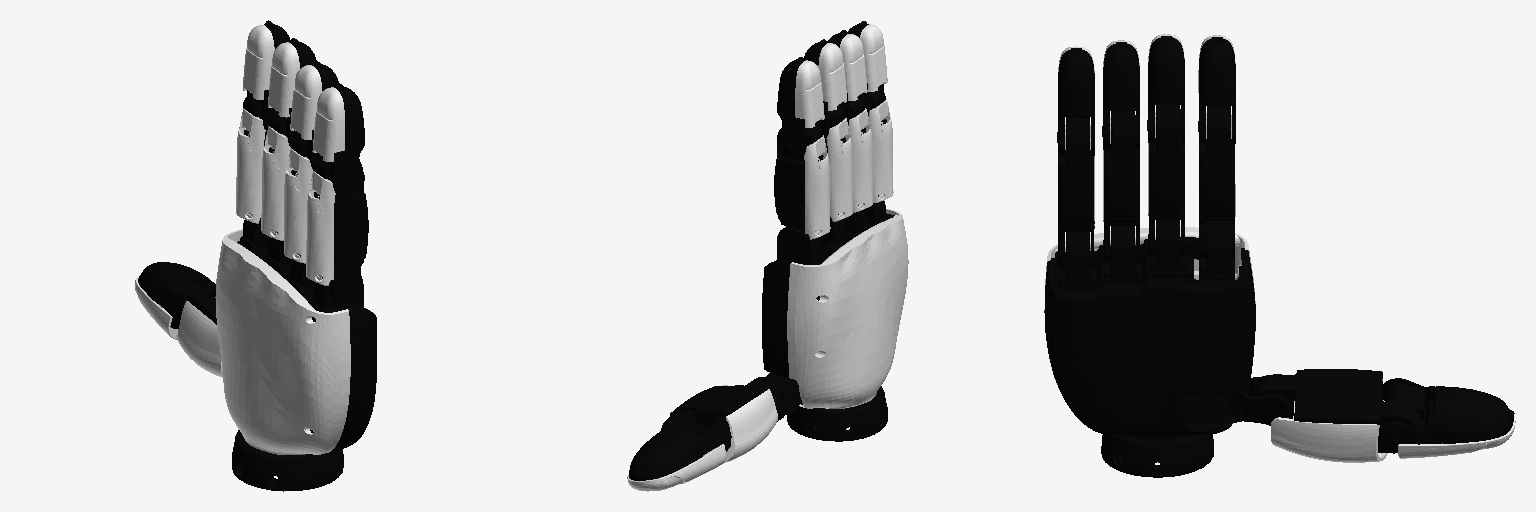
--- Facts derived from the render (not from the file) ---
The picture shows the robot from 3 angles, left to right: view 1: azimuth 30°, elevation 25°; view 2: azimuth 150°, elevation 25°; view 3: azimuth 270°, elevation 25°; orthographic projection.
Robot: xhand_right — 30 links, 29 joints (12 revolute, 17 fixed); root link right_hand_link; default pose: every joint at zero.
Links seen in each view (by area): view 1: right_hand_back_link, right_hand_link, right_hand_pinky_link1, right_hand_pinkyback_link1, right_hand_index_rotaback_link1, right_hand_thumb_rota_link2, right_hand_ringback_link1, right_hand_midback_link1, right_hand_pinky_link2, right_hand_thumb_rotaback_link1, right_hand_pinkyback_link2, right_hand_index_rotaback_link2 (+6 smaller); view 2: right_hand_back_link, right_hand_link, right_hand_thumb_rota_link2, right_hand_thumb_rota_link1, right_hand_index_rota_link1, right_hand_index_rotaback_link1, right_hand_thumb_rotaback_link1, right_hand_midback_link1, right_hand_ringback_link1, right_hand_index_rota_link2, right_hand_pinkyback_link1, right_hand_index_rotaback_link2 (+6 smaller); view 3: right_hand_link, right_hand_thumb_rota_link1, right_hand_thumb_rota_link2, right_hand_mid_link1, right_hand_ring_link1, right_hand_pinky_link1, right_hand_thumb_rotaback_link1, right_hand_index_rota_link1, right_hand_ring_link2, right_hand_pinky_link2, right_hand_mid_link2, right_hand_index_rota_link2 (+4 smaller).
Boxes of the visible links, x1,y1,x2,y2 form: right_hand_back_link: (215,229,350,454); right_hand_link: (232,237,376,491); right_hand_pinky_link1: (313,155,368,308); right_hand_pinkyback_link1: (306,171,335,285); right_hand_index_rotaback_link1: (236,108,265,223); right_hand_thumb_rota_link2: (138,262,215,328); right_hand_ringback_link1: (284,148,312,263); right_hand_midback_link1: (261,126,290,240); right_hand_pinky_link2: (317,87,364,196); right_hand_thumb_rotaback_link1: (177,301,222,377); right_hand_pinkyback_link2: (312,87,344,161); right_hand_index_rotaback_link2: (243,25,274,99); right_hand_back_link: (787,209,908,408); right_hand_link: (762,201,894,441); right_hand_thumb_rota_link2: (629,422,730,480); right_hand_thumb_rota_link1: (661,377,784,447); right_hand_index_rota_link1: (774,123,823,229); right_hand_index_rotaback_link1: (804,135,830,239); right_hand_thumb_rotaback_link1: (722,385,777,463); right_hand_midback_link1: (826,118,852,221); right_hand_ringback_link1: (848,108,872,212); right_hand_index_rota_link2: (777,60,820,158); right_hand_pinkyback_link1: (868,99,893,202); right_hand_index_rotaback_link2: (795,60,824,127); right_hand_link: (1044,220,1255,477); right_hand_thumb_rota_link1: (1251,369,1423,453); right_hand_thumb_rota_link2: (1378,378,1512,451); right_hand_mid_link1: (1148,105,1184,256); right_hand_ring_link1: (1103,111,1139,263); right_hand_pinky_link1: (1058,117,1094,269); right_hand_thumb_rotaback_link1: (1271,379,1387,462); right_hand_index_rota_link1: (1199,106,1234,224); right_hand_ring_link2: (1102,44,1139,149); right_hand_pinky_link2: (1057,50,1094,155); right_hand_mid_link2: (1147,37,1184,142); right_hand_index_rota_link2: (1198,38,1235,143).
Size in the robot's own frame: 0.0641 by 0.2091 by 0.2077 metres.
30 mesh visuals loaded from 30 distinct referenced files (30 binary STL).

The robot description file, URDF, robot "xhand_right":
<?xml version="1.0" encoding="utf-8"?>
<!-- This URDF was automatically created by SolidWorks to URDF Exporter! Originally created by Stephen Brawner ([email redacted]) 
     Commit Version: 1.6.0-4-g7f85cfe  Build Version: 1.6.7995.38578
     For more information, please see http://wiki.ros.org/sw_urdf_exporter -->
<robot
  name="xhand_right">
  <link
    name="right_hand_link">
    <inertial>
      <origin
        xyz="0.010035126340455 -0.00366835056360167 0.0582695212892126"
        rpy="0 0 0" />
      <mass
        value="0.53851506" />
      <inertia
        ixx=".00064186"
        ixy="0.00000002"
        ixz="-0.00000217"
        iyy="0.00046434"
        iyz="0.00005134"
        izz="0.00027538" />
    </inertial>
    <visual>
      <origin
        xyz="0 0 0"
        rpy="0 0 0" />
      <geometry>
        <mesh
          filename="../meshes/right_hand_link.STL" />
      </geometry>
      <material
        name="RAL_9005_Jet_Black">
        <color
          rgba="0.055 0.055 0.063 1.0" />
      </material>
    </visual>
    <collision>
      <origin
        xyz="0 0 0"
        rpy="0 0 0" />
      <geometry>
        <mesh
          filename="../meshes/right_hand_link.STL" />
      </geometry>
    </collision>
  </link>
  <link
    name="right_hand_ee_link">
    <inertial>
      <origin
        xyz="1.4529186126289E-19 -2.85196737334113E-18 0"
        rpy="0 0 0" />
      <mass
        value="0.00000565" />
      <inertia
        ixx="0.00000000001"
        ixy="0.00000000001"
        ixz="0.00000000001"
        iyy="0.00000000001"
        iyz="0.00000000001"
        izz="0.00000000001" />
    </inertial>
    <visual>
      <origin
        xyz="0 0 0"
        rpy="0 0 0" />
      <geometry>
        <mesh
          filename="../meshes/right_hand_ee_link.STL" />
      </geometry>
      <material
        name="RAL_9005_Jet_Black">
        <color
          rgba="0.055 0.055 0.063 1.0" />
      </material>
    </visual>
    <collision>
      <origin
        xyz="0 0 0"
        rpy="0 0 0" />
      <geometry>
        <mesh
          filename="../meshes/right_hand_ee_link.STL" />
      </geometry>
    </collision>
  </link>
  <joint
    name="right_hand_ee_joint"
    type="fixed">
    <origin
      xyz="0 0 0.065"
      rpy="0 0 0" />
    <parent
      link="right_hand_link" />
    <child
      link="right_hand_ee_link" />
    <axis
      xyz="0 0 0" />
    <dynamics
      damping="0"
      friction="0" />
  </joint>
  <link
    name="right_hand_back_link">
    <inertial>
      <origin
        xyz="-0.0140081519632461 -0.00149245332244742 -0.000647126026633069"
        rpy="0 0 0" />
      <mass
        value="0.00000002" />
      <inertia
        ixx="0.00000000001"
        ixy="0.00000000001"
        ixz="0.00000000001"
        iyy="0.00000000001"
        iyz="0.00000000001"
        izz="0.00000000001" />
    </inertial>
    <visual>
      <origin
        xyz="0 0 0"
        rpy="0 0 0" />
      <geometry>
        <mesh
          filename="../meshes/right_hand_back_link.STL" />
      </geometry>
      <material
        name="RAL_9003_Signal_White">
        <color
          rgba="0.941 0.941 0.941 1.0" />
      </material>
    </visual>
    <collision>
      <origin
        xyz="0 0 0"
        rpy="0 0 0" />
      <geometry>
        <mesh
          filename="../meshes/right_hand_back_link.STL" />
      </geometry>
    </collision>
  </link>
  <joint
    name="right_hand_back_joint"
    type="fixed">
    <origin
      xyz="0 0 0.065"
      rpy="0 0 0" />
    <parent
      link="right_hand_link" />
    <child
      link="right_hand_back_link" />
    <axis
      xyz="0 0 0" />
    <dynamics
      damping="0"
      friction="0" />
  </joint>
  <link
    name="right_hand_thumb_bend_link">
    <inertial>
      <origin
        xyz="-0.00116534489100702 0.0144358799903649 5.40665183232092E-05"
        rpy="0 0 0" />
      <mass
        value="0.01151453" />
      <inertia
        ixx="0.00000155"
        ixy="-0.00000003"
        ixz="0.00000000001"
        iyy="0.00000062"
        iyz="0.00000007"
        izz="0.00000157" />
    </inertial>
    <visual>
      <origin
        xyz="0 0 0"
        rpy="0 0 0" />
      <geometry>
        <mesh
          filename="../meshes/right_hand_thumb_bend_link.STL" />
      </geometry>
      <material
        name="RAL_9005_Jet_Black">
        <color
          rgba="0.055 0.055 0.063 1.0" />
      </material>
    </visual>
    <collision>
      <origin
        xyz="0 0 0"
        rpy="0 0 0" />
      <geometry>
        <mesh
          filename="../meshes/right_hand_thumb_bend_link.STL" />
      </geometry>
    </collision>
  </link>
  <joint
    name="right_hand_thumb_bend_joint"
    type="revolute">
    <origin
      xyz="0.0095 0.0228 0.0305"
      rpy="0 0 0" />
    <parent
      link="right_hand_link" />
    <child
      link="right_hand_thumb_bend_link" />
    <axis
      xyz="0 0 -1" />
    <limit
      lower="0"
      upper="1.832"
      effort="1.1"
      velocity="8.63" />
    <dynamics
      damping="0"
      friction="0" />
  </joint>
  <link
    name="right_hand_thumb_rota_link1">
    <inertial>
      <origin
        xyz="-0.00036176505273174 0.0287681485595387 0.00133929684947857"
        rpy="0 0 0" />
      <mass
        value="0.1322853" />
      <inertia
        ixx="0.00003665"
        ixy="-0.00000788"
        ixz="0.00000198"
        iyy="0.00001694"
        iyz="0.00000185"
        izz="0.00004358" />
    </inertial>
    <visual>
      <origin
        xyz="0 0 0"
        rpy="0 0 0" />
      <geometry>
        <mesh
          filename="../meshes/right_hand_thumb_rota_link1.STL" />
      </geometry>
      <material
        name="RAL_9005_Jet_Black">
        <color
          rgba="0.055 0.055 0.063 1.0" />
      </material>
    </visual>
    <collision>
      <origin
        xyz="0 0 0"
        rpy="0 0 0" />
      <geometry>
        <mesh
          filename="../meshes/right_hand_thumb_rota_link1.STL" />
      </geometry>
    </collision>
  </link>
  <joint
    name="right_hand_thumb_rota_joint1"
    type="revolute">
    <origin
      xyz="0.0083177 0.028599 -0.00178"
      rpy="0 0.2618 -0.0407" />
    <parent
      link="right_hand_thumb_bend_link" />
    <child
      link="right_hand_thumb_rota_link1" />
    <axis
      xyz="1 0 0" />
    <limit
      lower="-0.698"
      upper="1.57"
      effort="1.1"
      velocity="8.63" />
    <dynamics
      damping="0"
      friction="0" />
  </joint>
  <link
    name="right_hand_thumb_rotaback_link1">
    <inertial>
      <origin
        xyz="0.00143342397772657 -0.0296289408961753 -0.00759117851370326"
        rpy="0 0 0" />
      <mass
        value="0.00000006" />
      <inertia
        ixx="0.00000000001"
        ixy="0.00000000001"
        ixz="0.00000000001"
        iyy="0.00000000001"
        iyz="0.00000000001"
        izz="0.00000000001" />
    </inertial>
    <visual>
      <origin
        xyz="0 0 0"
        rpy="0 0 0" />
      <geometry>
        <mesh
          filename="../meshes/right_hand_thumb_rotaback_link1.STL" />
      </geometry>
      <material
        name="RAL_9003_Signal_White">
        <color
          rgba="0.941 0.941 0.941 1.0" />
      </material>
    </visual>
    <collision>
      <origin
        xyz="0 0 0"
        rpy="0 0 0" />
      <geometry>
        <mesh
          filename="../meshes/right_hand_thumb_rotaback_link1.STL" />
      </geometry>
    </collision>
  </link>
  <joint
    name="right_hand_thumb_rotaback_joint1"
    type="fixed">
    <origin
      xyz="0 0.0553000000000007 0"
      rpy="0 0 0" />
    <parent
      link="right_hand_thumb_rota_link1" />
    <child
      link="right_hand_thumb_rotaback_link1" />
    <axis
      xyz="0 0 0" />
    <dynamics
      damping="0"
      friction="0" />
  </joint>
  <link
    name="right_hand_thumb_rota_link2">
    <inertial>
      <origin
        xyz="-0.000881604281134662 0.0225339954987271 0.000614550644508979"
        rpy="0 0 0" />
      <mass
        value="0.03516871" />
      <inertia
        ixx="0.00000779"
        ixy="-0.00000002"
        ixz="0.00000034"
        iyy="0.0000035"
        iyz="-0.00000018"
        izz="0.00000896" />
    </inertial>
    <visual>
      <origin
        xyz="0 0 0"
        rpy="0 0 0" />
      <geometry>
        <mesh
          filename="../meshes/right_hand_thumb_rota_link2.STL" />
      </geometry>
      <material
        name="RAL_9005_Jet_Black">
        <color
          rgba="0.055 0.055 0.063 1.0" />
      </material>
    </visual>
    <collision>
      <origin
        xyz="0 0 0"
        rpy="0 0 0" />
      <geometry>
        <mesh
          filename="../meshes/right_hand_thumb_rota_link2.STL" />
      </geometry>
    </collision>
  </link>
  <joint
    name="right_hand_thumb_rota_joint2"
    type="revolute">
    <origin
      xyz="0 0.0553 0"
      rpy="0 0 0" />
    <parent
      link="right_hand_thumb_rota_link1" />
    <child
      link="right_hand_thumb_rota_link2" />
    <axis
      xyz="1 0 0" />
    <limit
      lower="0"
      upper="1.57"
      effort="0.4"
      velocity="14.38" />
    <dynamics
      damping="0"
      friction="0" />
  </joint>
  <link
    name="right_hand_thumb_rotaback_link2">
    <inertial>
      <origin
        xyz="-0.000532663554883375 -0.0258393181739458 -0.00924631111128287"
        rpy="0 0 0" />
      <mass
        value="0.00000004" />
      <inertia
        ixx="0.00000000001"
        ixy="0.00000000001"
        ixz="0.00000000001"
        iyy="0.00000000001"
        iyz="0.00000000001"
        izz="0.00000000001" />
    </inertial>
    <visual>
      <origin
        xyz="0 0 0"
        rpy="0 0 0" />
      <geometry>
        <mesh
          filename="../meshes/right_hand_thumb_rotaback_link2.STL" />
      </geometry>
      <material
        name="RAL_9003_Signal_White">
        <color
          rgba="0.941 0.941 0.941 1.0" />
      </material>
    </visual>
    <collision>
      <origin
        xyz="0 0 0"
        rpy="0 0 0" />
      <geometry>
        <mesh
          filename="../meshes/right_hand_thumb_rotaback_link2.STL" />
      </geometry>
    </collision>
  </link>
  <joint
    name="right_hand_thumb_rotaback_joint2"
    type="fixed">
    <origin
      xyz="0 0.0502276499414863 0"
      rpy="0 0 0" />
    <parent
      link="right_hand_thumb_rota_link2" />
    <child
      link="right_hand_thumb_rotaback_link2" />
    <axis
      xyz="0 0 0" />
    <dynamics
      damping="0"
      friction="0" />
  </joint>
  <link
    name="right_hand_thumb_rota_tip">
    <inertial>
      <origin
        xyz="1.82145964977565E-17 -2.77555756156289E-17 1.31838984174237E-16"
        rpy="0 0 0" />
      <mass
        value="0.00000565" />
      <inertia
        ixx="0.00000000001"
        ixy="0.00000000001"
        ixz="0.00000000001"
        iyy="0.00000000001"
        iyz="0.00000000001"
        izz="0.00000000001" />
    </inertial>
    <visual>
      <origin
        xyz="0 0 0"
        rpy="0 0 0" />
      <geometry>
        <mesh
          filename="../meshes/right_hand_thumb_rota_tip.STL" />
      </geometry>
      <material
        name="RAL_9005_Jet_Black">
        <color
          rgba="0.055 0.055 0.063 1.0" />
      </material>
    </visual>
    <collision>
      <origin
        xyz="0 0 0"
        rpy="0 0 0" />
      <geometry>
        <mesh
          filename="../meshes/right_hand_thumb_rota_tip.STL" />
      </geometry>
    </collision>
  </link>
  <joint
    name="right_hand_thumb_rota_joint3"
    type="fixed">
    <origin
      xyz="0 0.0502276499414863 0"
      rpy="0 0 0" />
    <parent
      link="right_hand_thumb_rota_link2" />
    <child
      link="right_hand_thumb_rota_tip" />
    <axis
      xyz="0 0 0" />
    <dynamics
      damping="0"
      friction="0" />
  </joint>
  <link
    name="right_hand_index_bend_link">
    <inertial>
      <origin
        xyz="-0.000715851164577249 0.000118997558760756 0.0111903014853532"
        rpy="0 0 0" />
      <mass
        value="0.068721" />
      <inertia
        ixx="0.00001643"
        ixy="0.00000000001"
        ixz="0.00000013"
        iyy="0.00001707"
        iyz="-0.00000011"
        izz="0.00000343" />
    </inertial>
    <visual>
      <origin
        xyz="0 0 0"
        rpy="0 0 0" />
      <geometry>
        <mesh
          filename="../meshes/right_hand_index_bend_link.STL" />
      </geometry>
      <material
        name="RAL_9005_Jet_Black">
        <color
          rgba="0.055 0.055 0.063 1.0" />
      </material>
    </visual>
    <collision>
      <origin
        xyz="0 0 0"
        rpy="0 0 0" />
      <geometry>
        <mesh
          filename="../meshes/right_hand_index_bend_link.STL" />
      </geometry>
    </collision>
  </link>
  <joint
    name="right_hand_index_bend_joint"
    type="revolute">
    <origin
      xyz="0.0065 0.0265 0.0899"
      rpy="0 0 0" />
    <parent
      link="right_hand_link" />
    <child
      link="right_hand_index_bend_link" />
    <axis
      xyz="-1 0 0" />
    <limit
      lower="-0.174"
      upper="0.174"
      effort="0.4"
      velocity="14.38" />
    <dynamics
      damping="0"
      friction="0" />
  </joint>
  <link
    name="right_hand_index_rota_link1">
    <inertial>
      <origin
        xyz="0.00063293051295399 0.00013300810657332 0.0355868719939061"
        rpy="0 0 0" />
      <mass
        value="0.06298297" />
      <inertia
        ixx="0.00001686"
        ixy="0.00000000001"
        ixz="-0.00000019"
        iyy="0.00001738"
        iyz="-0.00000028"
        izz="0.0000032" />
    </inertial>
    <visual>
      <origin
        xyz="0 0 0"
        rpy="0 0 0" />
      <geometry>
        <mesh
          filename="../meshes/right_hand_index_rota_link1.STL" />
      </geometry>
      <material
        name="RAL_9005_Jet_Black">
        <color
          rgba="0.055 0.055 0.063 1" />
      </material>
    </visual>
    <collision>
      <origin
        xyz="0 0 0"
        rpy="0 0 0" />
      <geometry>
        <mesh
          filename="../meshes/right_hand_index_rota_link1.STL" />
      </geometry>
    </collision>
  </link>
  <joint
    name="right_hand_index_joint1"
    type="revolute">
    <origin
      xyz="0 0 0.0178"
      rpy="0 0 0" />
    <parent
      link="right_hand_index_bend_link" />
    <child
      link="right_hand_index_rota_link1" />
    <axis
      xyz="0 1 0" />
    <limit
      lower="0"
      upper="1.919"
      effort="1.1"
      velocity="8.63" />
    <dynamics
      damping="0"
      friction="0" />
  </joint>
  <link
    name="right_hand_index_rotaback_link1">
    <inertial>
      <origin
        xyz="-0.0115948039989203 -0.000148034626475925 -0.0241234086564007"
        rpy="0 0 0" />
      <mass
        value="0.00000002" />
      <inertia
        ixx="0.00000000001"
        ixy="0.00000000001"
        ixz="0.00000000001"
        iyy="0.00000000001"
        iyz="0.00000000001"
        izz="0.00000000001" />
    </inertial>
    <visual>
      <origin
        xyz="0 0 0"
        rpy="0 0 0" />
      <geometry>
        <mesh
          filename="../meshes/right_hand_index_rotaback_link1.STL" />
      </geometry>
      <material
        name="RAL_9003_Signal_White">
        <color
          rgba="0.941 0.941 0.941 1" />
      </material>
    </visual>
    <collision>
      <origin
        xyz="0 0 0"
        rpy="0 0 0" />
      <geometry>
        <mesh
          filename="../meshes/right_hand_index_rotaback_link1.STL" />
      </geometry>
    </collision>
  </link>
  <joint
    name="right_hand_index_rotaback_joint1"
    type="fixed">
    <origin
      xyz="0 0 0.0557999999999955"
      rpy="0 0 0" />
    <parent
      link="right_hand_index_rota_link1" />
    <child
      link="right_hand_index_rotaback_link1" />
    <axis
      xyz="0 0 0" />
    <dynamics
      damping="0"
      friction="0" />
  </joint>
  <link
    name="right_hand_index_rota_link2">
    <inertial>
      <origin
        xyz="0.00119905190206782 -0.000248361661986104 0.0213789854478679"
        rpy="0 0 0" />
      <mass
        value="0.01582395" />
      <inertia
        ixx="0.00000283"
        ixy="0.00000000001"
        ixz="-0.00000007"
        iyy="0.00000277"
        iyz="-0.00000012"
        izz="0.00000085" />
    </inertial>
    <visual>
      <origin
        xyz="0 0 0"
        rpy="0 0 0" />
      <geometry>
        <mesh
          filename="../meshes/right_hand_index_rota_link2.STL" />
      </geometry>
      <material
        name="RAL_9005_Jet_Black">
        <color
          rgba="0.055 0.055 0.063 1" />
      </material>
    </visual>
    <collision>
      <origin
        xyz="0 0 0"
        rpy="0 0 0" />
      <geometry>
        <mesh
          filename="../meshes/right_hand_index_rota_link2.STL" />
      </geometry>
    </collision>
  </link>
  <joint
    name="right_hand_index_joint2"
    type="revolute">
    <origin
      xyz="0 0 0.0558"
      rpy="0 0 0" />
    <parent
      link="right_hand_index_rota_link1" />
    <child
      link="right_hand_index_rota_link2" />
    <axis
      xyz="0 1 0" />
    <limit
      lower="0"
      upper="1.919"
      effort="0.4"
      velocity="14.38" />
    <dynamics
      damping="0"
      friction="0" />
  </joint>
  <link
    name="right_hand_index_rotaback_link2">
    <inertial>
      <origin
        xyz="-0.00758843721876551 0.00015795043857645 -0.0176655210856158"
        rpy="0 0 0" />
      <mass
        value="0.00000001" />
      <inertia
        ixx="0.00000000001"
        ixy="0.00000000001"
        ixz="0.00000000001"
        iyy="0.00000000001"
        iyz="0.00000000001"
        izz="0.00000000001" />
    </inertial>
    <visual>
      <origin
        xyz="0 0 0"
        rpy="0 0 0" />
      <geometry>
        <mesh
          filename="../meshes/right_hand_index_rotaback_link2.STL" />
      </geometry>
      <material
        name="RAL_9003_Signal_White">
        <color
          rgba="0.941 0.941 0.941 1" />
      </material>
    </visual>
    <collision>
      <origin
        xyz="0 0 0"
        rpy="0 0 0" />
      <geometry>
        <mesh
          filename="../meshes/right_hand_index_rotaback_link2.STL" />
      </geometry>
    </collision>
  </link>
  <joint
    name="right_hand_index_rotaback_joint2"
    type="fixed">
    <origin
      xyz="0 0 0.0422482924089424"
      rpy="0 0 0" />
    <parent
      link="right_hand_index_rota_link2" />
    <child
      link="right_hand_index_rotaback_link2" />
    <axis
      xyz="0 0 0" />
    <dynamics
      damping="0"
      friction="0" />
  </joint>
  <link
    name="right_hand_index_rota_tip">
    <inertial>
      <origin
        xyz="7.13838710364456E-16 -3.46944695195361E-18 2.77555756156289E-17"
        rpy="0 0 0" />
      <mass
        value="0.00000565" />
      <inertia
        ixx="0.00000000001"
        ixy="0.00000000001"
        ixz="0.00000000001"
        iyy="0.00000000001"
        iyz="0.00000000001"
        izz="0.00000000001" />
    </inertial>
    <visual>
      <origin
        xyz="0 0 0"
        rpy="0 0 0" />
      <geometry>
        <mesh
          filename="../meshes/right_hand_index_rota_tip.STL" />
      </geometry>
      <material
        name="RAL_9005_Jet_Black">
        <color
          rgba="0.055 0.055 0.063 1" />
      </material>
    </visual>
    <collision>
      <origin
        xyz="0 0 0"
        rpy="0 0 0" />
      <geometry>
        <mesh
          filename="../meshes/right_hand_index_rota_tip.STL" />
      </geometry>
    </collision>
  </link>
  <joint
    name="right_hand_index_rota_joint3"
    type="fixed">
    <origin
      xyz="0 0 0.0422482924089424"
      rpy="0 0 0" />
    <parent
      link="right_hand_index_rota_link2" />
    <child
      link="right_hand_index_rota_tip" />
    <axis
      xyz="0 0 0" />
    <dynamics
      damping="0"
      friction="0" />
  </joint>
  <link
    name="right_hand_mid_link1">
    <inertial>
      <origin
        xyz="0.000530417592106097 3.58049083658378E-05 0.033278467115721"
        rpy="0 0 0" />
      <mass
        value="0.06298297" />
      <inertia
        ixx="0.00001681"
        ixy="0.00000000001"
        ixz="-0.00000087"
        iyy="0.00001738"
        iyz="-0.00000028"
        izz="0.00000325" />
    </inertial>
    <visual>
      <origin
        xyz="0 0 0"
        rpy="0 0 0" />
      <geometry>
        <mesh
          filename="../meshes/right_hand_mid_link1.STL" />
      </geometry>
      <material
        name="RAL_9005_Jet_Black">
        <color
          rgba="0.055 0.055 0.063 1" />
      </material>
    </visual>
    <collision>
      <origin
        xyz="0 0 0"
        rpy="0 0 0" />
      <geometry>
        <mesh
          filename="../meshes/right_hand_mid_link1.STL" />
      </geometry>
    </collision>
  </link>
  <joint
    name="right_hand_mid_joint1"
    type="revolute">
    <origin
      xyz="0.0065 0.004 0.1082"
      rpy="0 0 0" />
    <parent
      link="right_hand_link" />
    <child
      link="right_hand_mid_link1" />
    <axis
      xyz="0 1 0" />
    <limit
      lower="0"
      upper="1.919"
      effort="1.1"
      velocity="8.63" />
    <dynamics
      damping="0"
      friction="0" />
  </joint>
  <link
    name="right_hand_midback_link1">
    <inertial>
      <origin
        xyz="-0.0115948039977618 -0.000148034759331951 -0.0241234077138271"
        rpy="0 0 0" />
      <mass
        value="0.00000002" />
      <inertia
        ixx="0.00000000001"
        ixy="0.00000000001"
        ixz="0.00000000001"
        iyy="0.00000000001"
        iyz="0.00000000001"
        izz="0.00000000001" />
    </inertial>
    <visual>
      <origin
        xyz="0 0 0"
        rpy="0 0 0" />
      <geometry>
        <mesh
          filename="../meshes/right_hand_midback_link1.STL" />
      </geometry>
      <material
        name="RAL_9003_Signal_White">
        <color
          rgba="0.941 0.941 0.941 1" />
      </material>
    </visual>
    <collision>
      <origin
        xyz="0 0 0"
        rpy="0 0 0" />
      <geometry>
        <mesh
          filename="../meshes/right_hand_midback_link1.STL" />
      </geometry>
    </collision>
  </link>
  <joint
    name="right_hand_midback_joint1"
    type="fixed">
    <origin
      xyz="0 0 0.0558"
      rpy="0 0 0" />
    <parent
      link="right_hand_mid_link1" />
    <child
      link="right_hand_midback_link1" />
    <axis
      xyz="0 0 0" />
    <dynamics
      damping="0"
      friction="0" />
  </joint>
  <link
    name="right_hand_mid_link2">
    <inertial>
      <origin
        xyz="0.00119905190206755 -0.000248361661996566 0.0213789854478682"
        rpy="0 0 0" />
      <mass
        value="0.01582395" />
      <inertia
        ixx="0.00000287"
        ixy="-0.00000001"
        ixz="-0.00000019"
        iyy="0.00000283"
        iyz="-0.00000012"
        izz="0.00000087" />
    </inertial>
    <visual>
      <origin
        xyz="0 0 0"
        rpy="0 0 0" />
      <geometry>
        <mesh
          filename="../meshes/right_hand_mid_link2.STL" />
      </geometry>
      <material
        name="RAL_9005_Jet_Black">
        <color
          rgba="0.055 0.055 0.063 1" />
      </material>
    </visual>
    <collision>
      <origin
        xyz="0 0 0"
        rpy="0 0 0" />
      <geometry>
        <mesh
          filename="../meshes/right_hand_mid_link2.STL" />
      </geometry>
    </collision>
  </link>
  <joint
    name="right_hand_mid_joint2"
    type="revolute">
    <origin
      xyz="0 0 0.0558"
      rpy="0 0 0" />
    <parent
      link="right_hand_mid_link1" />
    <child
      link="right_hand_mid_link2" />
    <axis
      xyz="0 1 0" />
    <limit
      lower="0"
      upper="1.919"
      effort="0.4"
      velocity="14.38" />
    <dynamics
      damping="0"
      friction="0" />
  </joint>
  <link
    name="right_hand_midback_link2">
    <inertial>
      <origin
        xyz="-0.00758843721876527 0.000157950438608734 -0.0176655210856121"
        rpy="0 0 0" />
      <mass
        value="0.00000001" />
      <inertia
        ixx="0.00000000001"
        ixy="0.00000000001"
        ixz="0.00000000001"
        iyy="0.00000000001"
        iyz="0.00000000001"
        izz="0.00000000001" />
    </inertial>
    <visual>
      <origin
        xyz="0 0 0"
        rpy="0 0 0" />
      <geometry>
        <mesh
          filename="../meshes/right_hand_midback_link2.STL" />
      </geometry>
      <material
        name="RAL_9003_Signal_White">
        <color
          rgba="0.941 0.941 0.941 1" />
      </material>
    </visual>
    <collision>
      <origin
        xyz="0 0 0"
        rpy="0 0 0" />
      <geometry>
        <mesh
          filename="../meshes/right_hand_midback_link2.STL" />
      </geometry>
    </collision>
  </link>
  <joint
    name="right_hand_midback_joint2"
    type="fixed">
    <origin
      xyz="0 0 0.0422482924089416"
      rpy="0 0 0" />
    <parent
      link="right_hand_mid_link2" />
    <child
      link="right_hand_midback_link2" />
    <axis
      xyz="0 0 0" />
    <dynamics
      damping="0"
      friction="0" />
  </joint>
  <link
    name="right_hand_mid_tip">
    <inertial>
      <origin
        xyz="6.99093560818653E-16 2.6104986228237E-14 8.32667268468867E-16"
        rpy="0 0 0" />
      <mass
        value="0.00000565" />
      <inertia
        ixx="0.00000000001"
        ixy="0.00000000001"
        ixz="0.00000000001"
        iyy="0.00000000001"
        iyz="0.00000000001"
        izz="0.00000000001" />
    </inertial>
    <visual>
      <origin
        xyz="0 0 0"
        rpy="0 0 0" />
      <geometry>
        <mesh
          filename="../meshes/right_hand_mid_tip.STL" />
      </geometry>
      <material
        name="RAL_9005_Jet_Black">
        <color
          rgba="0.055 0.055 0.063 1" />
      </material>
    </visual>
    <collision>
      <origin
        xyz="0 0 0"
        rpy="0 0 0" />
      <geometry>
        <mesh
          filename="../meshes/right_hand_mid_tip.STL" />
      </geometry>
    </collision>
  </link>
  <joint
    name="right_hand_mid_joint3"
    type="fixed">
    <origin
      xyz="0 0 0.042248"
      rpy="0 0 0" />
    <parent
      link="right_hand_mid_link2" />
    <child
      link="right_hand_mid_tip" />
    <axis
      xyz="0 0 0" />
    <dynamics
      damping="0"
      friction="0" />
  </joint>
  <link
    name="right_hand_ring_link1">
    <inertial>
      <origin
        xyz="0.000530417592105675 3.58049083603318E-05 0.0332784671157224"
        rpy="0 0 0" />
      <mass
        value="0.06298297" />
      <inertia
        ixx="0.00001681"
        ixy="0.00000000001"
        ixz="-0.00000087"
        iyy="0.00001738"
        iyz="-0.00000028"
        izz="0.00000325" />
    </inertial>
    <visual>
      <origin
        xyz="0 0 0"
        rpy="0 0 0" />
      <geometry>
        <mesh
          filename="../meshes/right_hand_ring_link1.STL" />
      </geometry>
      <material
        name="RAL_9005_Jet_Black">
        <color
          rgba="0.055 0.055 0.063 1" />
      </material>
    </visual>
    <collision>
      <origin
        xyz="0 0 0"
        rpy="0 0 0" />
      <geometry>
        <mesh
          filename="../meshes/right_hand_ring_link1.STL" />
      </geometry>
    </collision>
  </link>
  <joint
    name="right_hand_ring_joint1"
    type="revolute">
    <origin
      xyz="0.0065 -0.016 0.1052"
      rpy="0 0 0" />
    <parent
      link="right_hand_link" />
    <child
      link="right_hand_ring_link1" />
    <axis
      xyz="0 1 0" />
    <limit
      lower="0"
      upper="1.919"
      effort="1.1"
      velocity="8.63" />
    <dynamics
      damping="0"
      friction="0" />
  </joint>
  <link
    name="right_hand_ringback_link1">
    <inertial>
      <origin
        xyz="-0.0115948040042931 -0.000148034878525431 -0.0241234080984737"
        rpy="0 0 0" />
      <mass
        value="0.00000002" />
      <inertia
        ixx="0.00000000001"
        ixy="0.00000000001"
        ixz="0.00000000001"
        iyy="0.00000000001"
        iyz="0.00000000001"
        izz="0.00000000001" />
    </inertial>
    <visual>
      <origin
        xyz="0 0 0"
        rpy="0 0 0" />
      <geometry>
        <mesh
          filename="../meshes/right_hand_ringback_link1.STL" />
      </geometry>
      <material
        name="RAL_9003_Signal_White">
        <color
          rgba="0.941 0.941 0.941 1" />
      </material>
    </visual>
    <collision>
      <origin
        xyz="0 0 0"
        rpy="0 0 0" />
      <geometry>
        <mesh
          filename="../meshes/right_hand_ringback_link1.STL" />
      </geometry>
    </collision>
  </link>
  <joint
    name="right_hand_ringback_joint1"
    type="fixed">
    <origin
      xyz="0 0 0.0558"
      rpy="0 0 0" />
    <parent
      link="right_hand_ring_link1" />
    <child
      link="right_hand_ringback_link1" />
    <axis
      xyz="0 0 0" />
    <dynamics
      damping="0"
      friction="0" />
  </joint>
  <link
    name="right_hand_ring_link2">
    <inertial>
      <origin
        xyz="0.00119905192644367 -0.000248361559624762 0.0213789854805378"
        rpy="0 0 0" />
      <mass
        value="0.01582395" />
      <inertia
        ixx="0.00000287"
        ixy="-0.00000001"
        ixz="-0.00000019"
        iyy="0.00000283"
        iyz="-0.00000012"
        izz="0.00000087" />
    </inertial>
    <visual>
      <origin
        xyz="0 0 0"
        rpy="0 0 0" />
      <geometry>
        <mesh
          filename="../meshes/right_hand_ring_link2.STL" />
      </geometry>
      <material
        name="RAL_9005_Jet_Black">
        <color
          rgba="0.055 0.055 0.063 1" />
      </material>
    </visual>
    <collision>
      <origin
        xyz="0 0 0"
        rpy="0 0 0" />
      <geometry>
        <mesh
          filename="../meshes/right_hand_ring_link2.STL" />
      </geometry>
    </collision>
  </link>
  <joint
    name="right_hand_ring_joint2"
    type="revolute">
    <origin
      xyz="0 0 0.0558"
      rpy="0 0 0" />
    <parent
      link="right_hand_ring_link1" />
    <child
      link="right_hand_ring_link2" />
    <axis
      xyz="0 1 0" />
    <limit
      lower="0"
      upper="1.919"
      effort="0.4"
      velocity="14.38" />
    <dynamics
      damping="0"
      friction="0" />
  </joint>
  <link
    name="right_hand_ringback_link2">
    <inertial>
      <origin
        xyz="-0.00758843721876704 0.000157950438643945 -0.0176655210856309"
        rpy="0 0 0" />
      <mass
        value="0.00000001" />
      <inertia
        ixx="0.00000000001"
        ixy="0.00000000001"
        ixz="0.00000000001"
        iyy="0.00000000001"
        iyz="0.00000000001"
        izz="0.00000000001" />
    </inertial>
    <visual>
      <origin
        xyz="0 0 0"
        rpy="0 0 0" />
      <geometry>
        <mesh
          filename="../meshes/right_hand_ringback_link2.STL" />
      </geometry>
      <material
        name="RAL_9003_Signal_White">
        <color
          rgba="0.941 0.941 0.941 1" />
      </material>
    </visual>
    <collision>
      <origin
        xyz="0 0 0"
        rpy="0 0 0" />
      <geometry>
        <mesh
          filename="../meshes/right_hand_ringback_link2.STL" />
      </geometry>
    </collision>
  </link>
  <joint
    name="right_hand_ringback_joint2"
    type="fixed">
    <origin
      xyz="0 0 0.0422482924089404"
      rpy="0 0 0" />
    <parent
      link="right_hand_ring_link2" />
    <child
      link="right_hand_ringback_link2" />
    <axis
      xyz="0 0 0" />
    <dynamics
      damping="0"
      friction="0" />
  </joint>
  <link
    name="right_hand_ring_tip">
    <inertial>
      <origin
        xyz="3.0444397003393E-16 -9.71445146547012E-17 0"
        rpy="0 0 0" />
      <mass
        value="0.00000565" />
      <inertia
        ixx="0.00000000001"
        ixy="0.00000000001"
        ixz="0.00000000001"
        iyy="0.00000000001"
        iyz="0.00000000001"
        izz="0.00000000001" />
    </inertial>
    <visual>
      <origin
        xyz="0 0 0"
        rpy="0 0 0" />
      <geometry>
        <mesh
          filename="../meshes/right_hand_ring_tip.STL" />
      </geometry>
      <material
        name="RAL_9005_Jet_Black">
        <color
          rgba="0.055 0.055 0.063 1" />
      </material>
    </visual>
    <collision>
      <origin
        xyz="0 0 0"
        rpy="0 0 0" />
      <geometry>
        <mesh
          filename="../meshes/right_hand_ring_tip.STL" />
      </geometry>
    </collision>
  </link>
  <joint
    name="right_hand_ring_joint3"
    type="fixed">
    <origin
      xyz="0 0 0.0422482924089404"
      rpy="0 0 0" />
    <parent
      link="right_hand_ring_link2" />
    <child
      link="right_hand_ring_tip" />
    <axis
      xyz="0 0 0" />
    <dynamics
      damping="0"
      friction="0" />
  </joint>
  <link
    name="right_hand_pinky_link1">
    <inertial>
      <origin
        xyz="0.00053041759210553 3.58049083602902E-05 0.0332784671157224"
        rpy="0 0 0" />
      <mass
        value="0.06298297" />
      <inertia
        ixx="0.00001681"
        ixy="0.00000000001"
        ixz="-0.00000087"
        iyy="0.00001738"
        iyz="-0.00000028"
        izz="0.00000325" />
    </inertial>
    <visual>
      <origin
        xyz="0 0 0"
        rpy="0 0 0" />
      <geometry>
        <mesh
          filename="../meshes/right_hand_pinky_link1.STL" />
      </geometry>
      <material
        name="RAL_9005_Jet_Black">
        <color
          rgba="0.055 0.055 0.063 1" />
      </material>
    </visual>
    <collision>
      <origin
        xyz="0 0 0"
        rpy="0 0 0" />
      <geometry>
        <mesh
          filename="../meshes/right_hand_pinky_link1.STL" />
      </geometry>
    </collision>
  </link>
  <joint
    name="right_hand_pinky_joint1"
    type="revolute">
    <origin
      xyz="0.0065 -0.036 0.1022"
      rpy="0 0 0" />
    <parent
      link="right_hand_link" />
    <child
      link="right_hand_pinky_link1" />
    <axis
      xyz="0 1 0" />
    <limit
      lower="0"
      upper="1.919"
      effort="1.1"
      velocity="8.63" />
    <dynamics
      damping="0"
      friction="0" />
  </joint>
  <link
    name="right_hand_pinkyback_link1">
    <inertial>
      <origin
        xyz="-0.0115948039527258 -0.000148033943928788 -0.0241234090857975"
        rpy="0 0 0" />
      <mass
        value="0.00000002" />
      <inertia
        ixx="0.00000000001"
        ixy="0.00000000001"
        ixz="0.00000000001"
        iyy="0.00000000001"
        iyz="0.00000000001"
        izz="0.00000000001" />
    </inertial>
    <visual>
      <origin
        xyz="0 0 0"
        rpy="0 0 0" />
      <geometry>
        <mesh
          filename="../meshes/right_hand_pinkyback_link1.STL" />
      </geometry>
      <material
        name="RAL_9003_Signal_White">
        <color
          rgba="0.941 0.941 0.941 1" />
      </material>
    </visual>
    <collision>
      <origin
        xyz="0 0 0"
        rpy="0 0 0" />
      <geometry>
        <mesh
          filename="../meshes/right_hand_pinkyback_link1.STL" />
      </geometry>
    </collision>
  </link>
  <joint
    name="right_hand_pinkyback_joint1"
    type="fixed">
    <origin
      xyz="0 0 0.0558000000000001"
      rpy="0 0 0" />
    <parent
      link="right_hand_pinky_link1" />
    <child
      link="right_hand_pinkyback_link1" />
    <axis
      xyz="0 0 0" />
    <dynamics
      damping="0"
      friction="0" />
  </joint>
  <link
    name="right_hand_pinky_link2">
    <inertial>
      <origin
        xyz="0.001199051902067 -0.000248361662016403 0.0213789854478657"
        rpy="0 0 0" />
      <mass
        value="0.01582395" />
      <inertia
        ixx="0.00000287"
        ixy="-0.00000001"
        ixz="-0.00000019"
        iyy="0.00000283"
        iyz="-0.00000012"
        izz="0.00000087" />
    </inertial>
    <visual>
      <origin
        xyz="0 0 0"
        rpy="0 0 0" />
      <geometry>
        <mesh
          filename="../meshes/right_hand_pinky_link2.STL" />
      </geometry>
      <material
        name="RAL_9005_Jet_Black">
        <color
          rgba="0.055 0.055 0.063 1" />
      </material>
    </visual>
    <collision>
      <origin
        xyz="0 0 0"
        rpy="0 0 0" />
      <geometry>
        <mesh
          filename="../meshes/right_hand_pinky_link2.STL" />
      </geometry>
    </collision>
  </link>
  <joint
    name="right_hand_pinky_joint2"
    type="revolute">
    <origin
      xyz="0 0 0.0558"
      rpy="0 0 0" />
    <parent
      link="right_hand_pinky_link1" />
    <child
      link="right_hand_pinky_link2" />
    <axis
      xyz="0 1 0" />
    <limit
      lower="0"
      upper="1.919"
      effort="0.4"
      velocity="14.38" />
    <dynamics
      damping="0"
      friction="0" />
  </joint>
  <link
    name="right_hand_pinkyback_link2">
    <inertial>
      <origin
        xyz="-0.00758843721876425 0.000157950438630629 -0.0176655210855414"
        rpy="0 0 0" />
      <mass
        value="0.00000001" />
      <inertia
        ixx="0.00000000001"
        ixy="0.00000000001"
        ixz="0.00000000001"
        iyy="0.00000000001"
        iyz="0.00000000001"
        izz="0.00000000001"/>
    </inertial>
    <visual>
      <origin
        xyz="0 0 0"
        rpy="0 0 0" />
      <geometry>
        <mesh
          filename="../meshes/right_hand_pinkyback_link2.STL" />
      </geometry>
      <material
        name="RAL_9003_Signal_White">
        <color
          rgba="0.941 0.941 0.941 1" />
      </material>
    </visual>
    <collision>
      <origin
        xyz="0 0 0"
        rpy="0 0 0" />
      <geometry>
        <mesh
          filename="../meshes/right_hand_pinkyback_link2.STL" />
      </geometry>
    </collision>
  </link>
  <joint
    name="right_hand_pinkyback_joint2"
    type="fixed">
    <origin
      xyz="0 0 0.0422482924089405"
      rpy="0 0 0" />
    <parent
      link="right_hand_pinky_link2" />
    <child
      link="right_hand_pinkyback_link2" />
    <axis
      xyz="0 0 0" />
    <dynamics
      damping="0"
      friction="0" />
  </joint>
  <link
    name="right_hand_pinky_tip">
    <inertial>
      <origin
        xyz="1.17961196366423E-16 -2.91433543964104E-16 0"
        rpy="0 0 0" />
      <mass
        value="0.00000565" />
      <inertia
        ixx="0.00000000001"
        ixy="0.00000000001"
        ixz="0.00000000001"
        iyy="0.00000000001"
        iyz="0.00000000001"
        izz="0.00000000001"/>
    </inertial>
    <visual>
      <origin
        xyz="0 0 0"
        rpy="0 0 0" />
      <geometry>
        <mesh
          filename="../meshes/right_hand_pinky_tip.STL" />
      </geometry>
      <material
        name="RAL_9005_Jet_Black">
        <color
          rgba="0.055 0.055 0.063 1" />
      </material>
    </visual>
    <collision>
      <origin
        xyz="0 0 0"
        rpy="0 0 0" />
      <geometry>
        <mesh
          filename="../meshes/right_hand_pinky_tip.STL" />
      </geometry>
    </collision>
  </link>
  <joint
    name="right_hand_pinky_joint3"
    type="fixed">
    <origin
      xyz="0 0 0.0422482924089405"
      rpy="0 0 0" />
    <parent
      link="right_hand_pinky_link2" />
    <child
      link="right_hand_pinky_tip" />
    <axis
      xyz="0 0 0" />
    <dynamics
      damping="0"
      friction="0" />
  </joint>
</robot>
